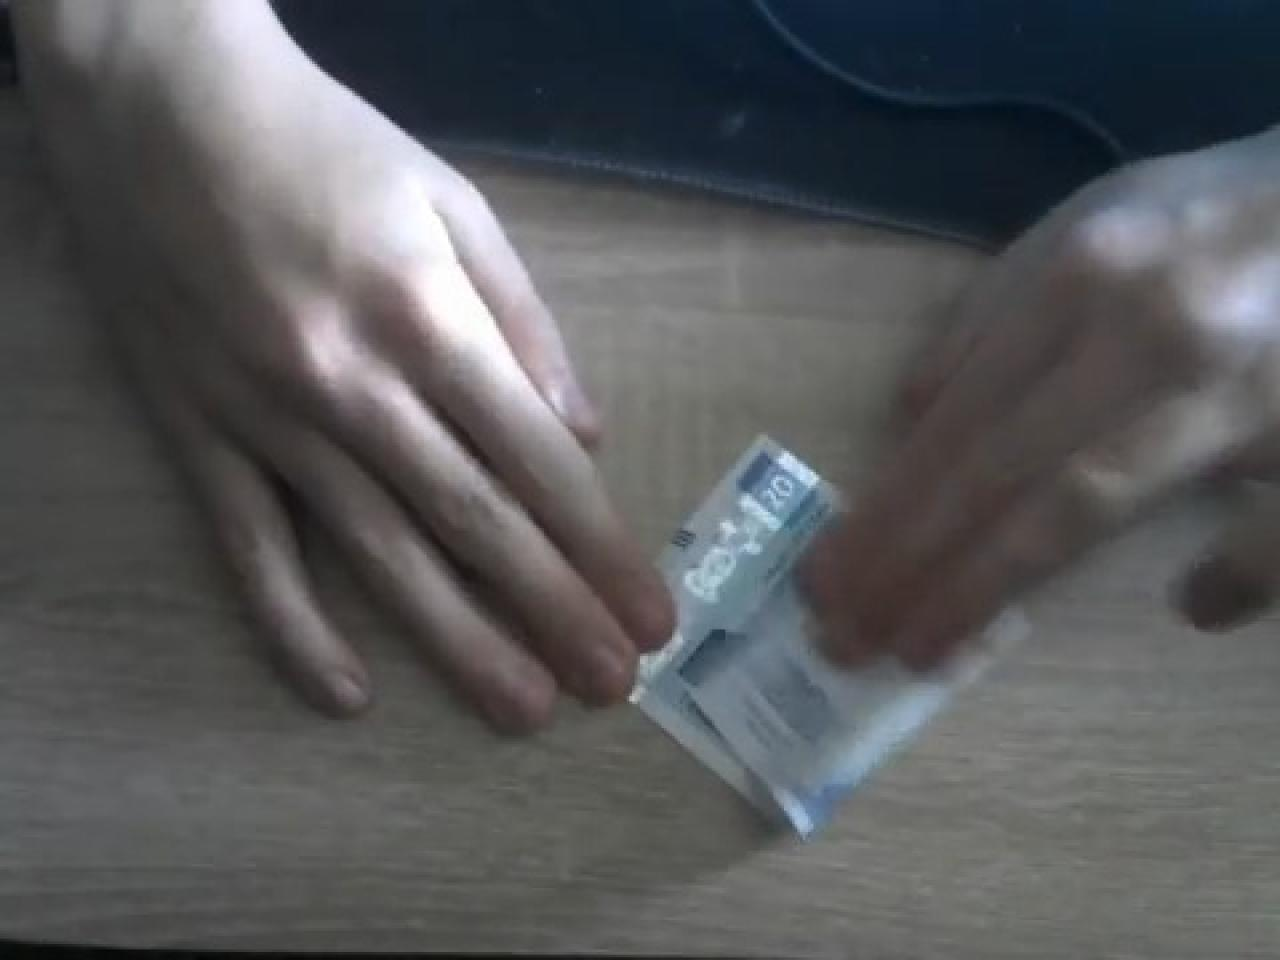20leva: (629, 435, 1021, 843)
